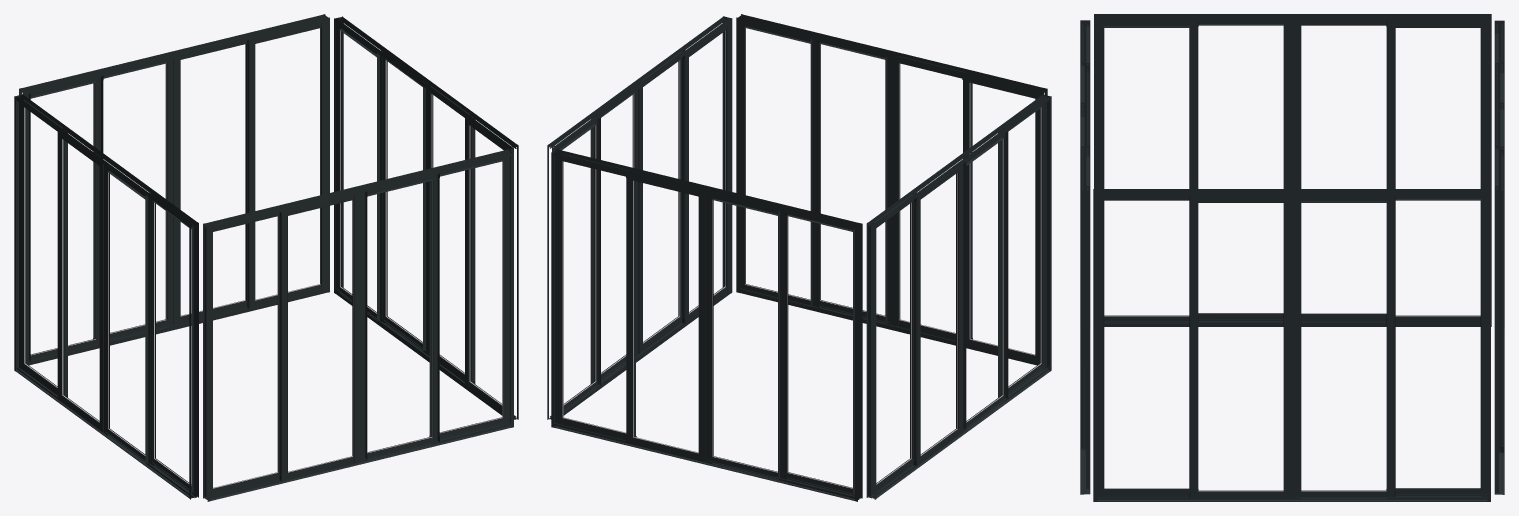
3 renders of one model, left to right at view 1: azimuth 30°, elevation 25°; view 2: azimuth 150°, elevation 25°; view 3: azimuth 270°, elevation 25°, orthographic. The views are drawn at different scales.
Parts seen in each view (by area): view 1: priximbattable_net_pergola_aluminium_1282_pergola_aluminium_, folha2, folha1_4, folha3, folha2_2, folha2_4, folha3_2, folha4_4, folha1_2, folha1, folha4_3, folha4 (+5 smaller); view 2: priximbattable_net_pergola_aluminium_1282_pergola_aluminium_, folha2_4, folha3_4, folha4, folha2_2, folha2, folha1_3, folha3_2, folha1, folha1_4, folha1_2, folha2_3 (+5 smaller); view 3: priximbattable_net_pergola_aluminium_1282_pergola_aluminium_, folha2_3, folha3_3, folha1_2, folha4_2, folha1_3, folha4_3, folha2_2, folha3_2, folha2_4, folha1_4, folha4 (+2 smaller).
Boxes of the visible parts, x1,y1,x2,y2 form: priximbattable_net_pergola_aluminium_1282_pergola_aluminium_: (14, 14, 518, 501); folha2: (279, 192, 361, 481); folha1_4: (247, 21, 327, 308); folha3: (362, 173, 439, 460); folha2_2: (57, 129, 106, 432); folha2_4: (171, 37, 247, 325); folha3_2: (103, 164, 152, 464); folha4_4: (22, 76, 103, 361); folha1_2: (19, 97, 67, 397); folha1: (204, 209, 279, 497); folha4_3: (338, 24, 383, 322); folha4: (429, 157, 507, 440); priximbattable_net_pergola_aluminium_1282_pergola_aluminium_: (547, 14, 1051, 501); folha2_4: (626, 173, 708, 462); folha3_4: (705, 193, 786, 479); folha4: (740, 21, 818, 307); folha2_2: (913, 164, 962, 466); folha2: (890, 54, 972, 340); folha1_3: (682, 22, 730, 323); folha3_2: (963, 129, 1008, 429); folha1: (962, 75, 1043, 362); folha1_4: (556, 154, 636, 440); folha1_2: (868, 192, 916, 496); folha2_3: (636, 50, 684, 354); priximbattable_net_pergola_aluminium_1282_pergola_aluminium_: (1080, 14, 1504, 501); folha2_3: (1189, 197, 1294, 499); folha3_3: (1295, 197, 1395, 498); folha1_2: (1386, 22, 1487, 323); folha4_2: (1097, 22, 1198, 323); folha1_3: (1097, 197, 1198, 496); folha4_3: (1386, 197, 1487, 496); folha2_2: (1290, 22, 1386, 321); folha3_2: (1198, 22, 1289, 321); folha2_4: (1499, 106, 1503, 453); folha1_4: (1495, 146, 1499, 492); folha4: (1085, 146, 1089, 489).
Bounding box in the file's own units: 299 × 240 × 299.
1 material, 1 textured.
